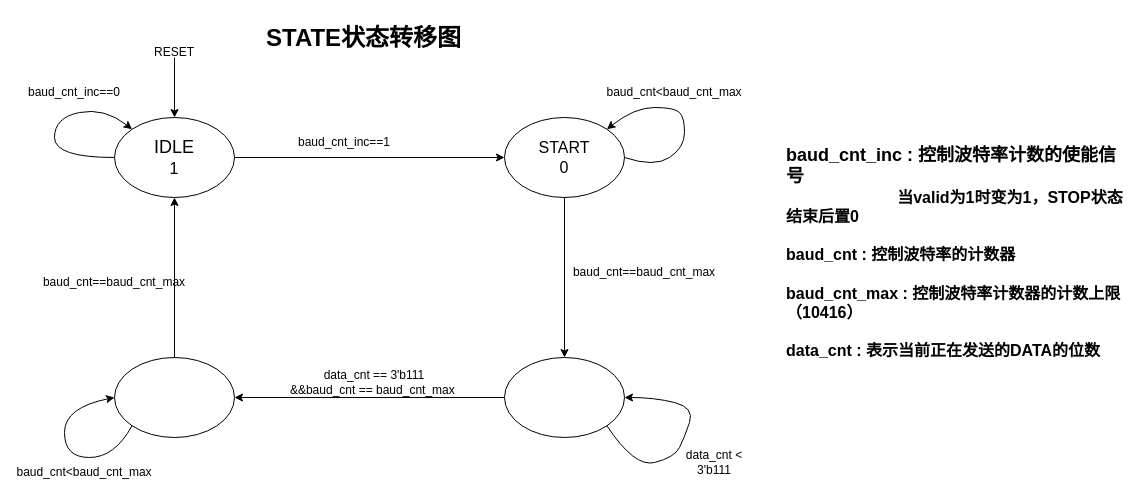
This 1142x504 diagram has some shape labels left out. The centre of each missing label's shape, as x and y in pixels:
DATA data[data_cnt]: (x=564, y=397)
STOP 1: (x=174, y=397)
